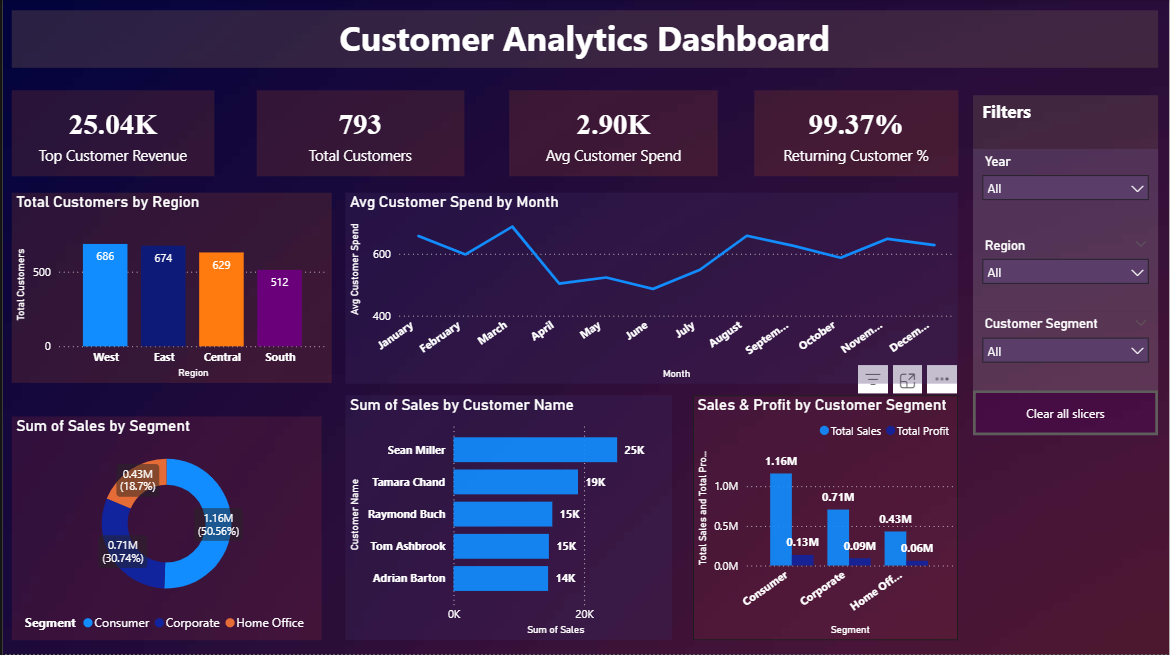

This screenshot's page, from the dashboard's own definition file:
{"tool":"powerbi","page":{"name":"Page 3","canvas":[1280,720],"ordinal":2},"visuals":[{"type":"textbox","box":[9.6,12.3,1258.3,63.1],"z":0},{"type":"card","fields":{"Values":["Sample - Superstore.Avg Customer Spend"]},"box":[555.7,100.2,229.2,94.7],"z":1000},{"type":"card","fields":{"Values":["Sample - Superstore.Total Customers"]},"box":[278.6,100.2,227.8,94.7],"z":2000},{"type":"card","fields":{"Values":["Sample - Superstore.Returning Customer %"]},"box":[824.7,100.2,223.7,94.7],"z":3000},{"type":"card","fields":{"Values":["Sample - Superstore.Top Customer Revenue"]},"box":[9.6,100.2,222.3,94.7],"z":4000},{"type":"donutChart","fields":{"Category":["Sample - Superstore.Segment"],"Y":["Sum(Sample - Superstore.Sales)"]},"box":[9.6,458.3,340.3,245.6],"z":5000},{"type":"barChart","fields":{"Y":["Sum(Sample - Superstore.Sales)"],"Category":["Sample - Superstore.Customer Name"]},"box":[376,435,358.1,269],"z":6000},{"type":"clusteredColumnChart","fields":{"Category":["Sample - Superstore.Region"],"Y":["Sample - Superstore.Total Customers"]},"box":[9.6,212.7,351.3,208.6],"z":7000},{"type":"clusteredColumnChart","title":"Sales & Profit by Customer Segment","fields":{"Category":["Sample - Superstore.Segment"],"Y":["Sample - Superstore.Total Sales","Sample - Superstore.Total Profit"]},"box":[757.5,435,290.9,269],"z":8000},{"type":"lineChart","fields":{"Category":["Sample - Superstore.Order Date.Variation.Date Hierarchy.Month"],"Y":["Sample - Superstore.Avg Customer Spend"]},"box":[376,212.7,672.4,209.9],"z":9000},{"type":"slicer","fields":{"Values":["Sample - Superstore.Order Date.Variation.Date Hierarchy.Year"]},"box":[1064.8,164.7,203.1,91.9],"z":10000},{"type":"slicer","fields":{"Values":["Sample - Superstore.Region"]},"box":[1064.8,256.6,203.1,86.4],"z":11000},{"type":"slicer","fields":{"Values":["Sample - Superstore.Segment"]},"box":[1064.8,343.1,203.1,86.4],"z":12000},{"type":"textbox","box":[1064.8,105.7,203.1,59],"z":13000},{"type":"actionButton","box":[1064.8,429.5,203.1,49.4],"z":14000}]}

Visuals, with their boxes in screenshot pixels (x1, y1, x2, y2), scaled from the page's 1280x720 canvas onto the 1170x655 screenshot:
textbox: BBox(9, 11, 1159, 69)
card - Sample - Superstore.Avg Customer Spend: BBox(508, 91, 717, 177)
card - Sample - Superstore.Total Customers: BBox(255, 91, 463, 177)
card - Sample - Superstore.Returning Customer %: BBox(754, 91, 958, 177)
card - Sample - Superstore.Top Customer Revenue: BBox(9, 91, 212, 177)
donutChart - Sample - Superstore.Segment x Sum(Sample - Superstore.Sales): BBox(9, 417, 320, 640)
barChart - Sum(Sample - Superstore.Sales) x Sample - Superstore.Customer Name: BBox(344, 396, 671, 640)
clusteredColumnChart - Sample - Superstore.Region x Sample - Superstore.Total Customers: BBox(9, 193, 330, 383)
"Sales & Profit by Customer Segment" clusteredColumnChart: BBox(692, 396, 958, 640)
lineChart - Sample - Superstore.Order Date.Variation.Date Hierarchy.Month x Sample - Superstore.Avg Customer Spend: BBox(344, 193, 958, 384)
slicer - Sample - Superstore.Order Date.Variation.Date Hierarchy.Year: BBox(973, 150, 1159, 233)
slicer - Sample - Superstore.Region: BBox(973, 233, 1159, 312)
slicer - Sample - Superstore.Segment: BBox(973, 312, 1159, 391)
textbox: BBox(973, 96, 1159, 150)
actionButton: BBox(973, 391, 1159, 436)
